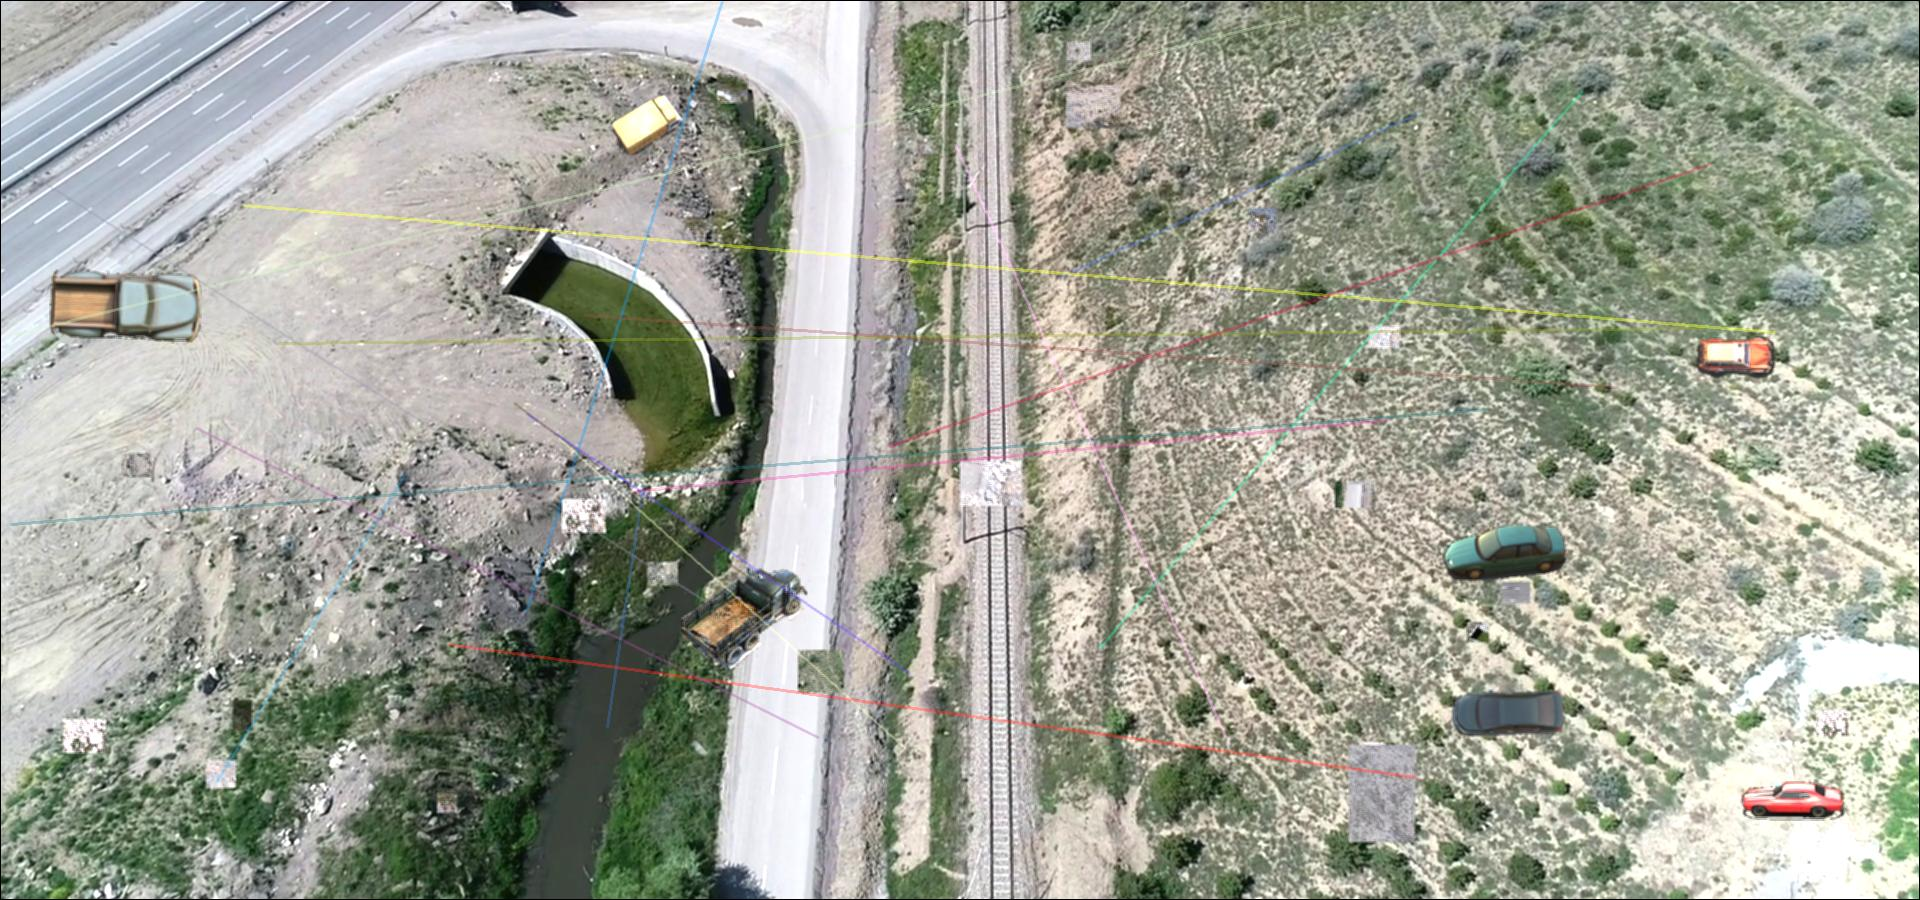arac: (682, 561, 808, 669), (48, 267, 201, 345), (1441, 527, 1567, 580), (1451, 689, 1569, 741), (613, 91, 684, 156), (1738, 779, 1847, 820), (1696, 336, 1779, 378)
